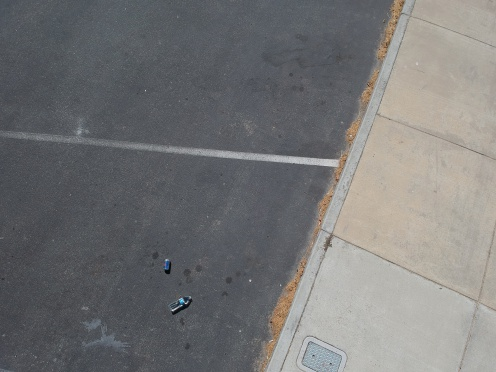bottle: (162, 292, 198, 314)
can: (159, 253, 173, 273)
